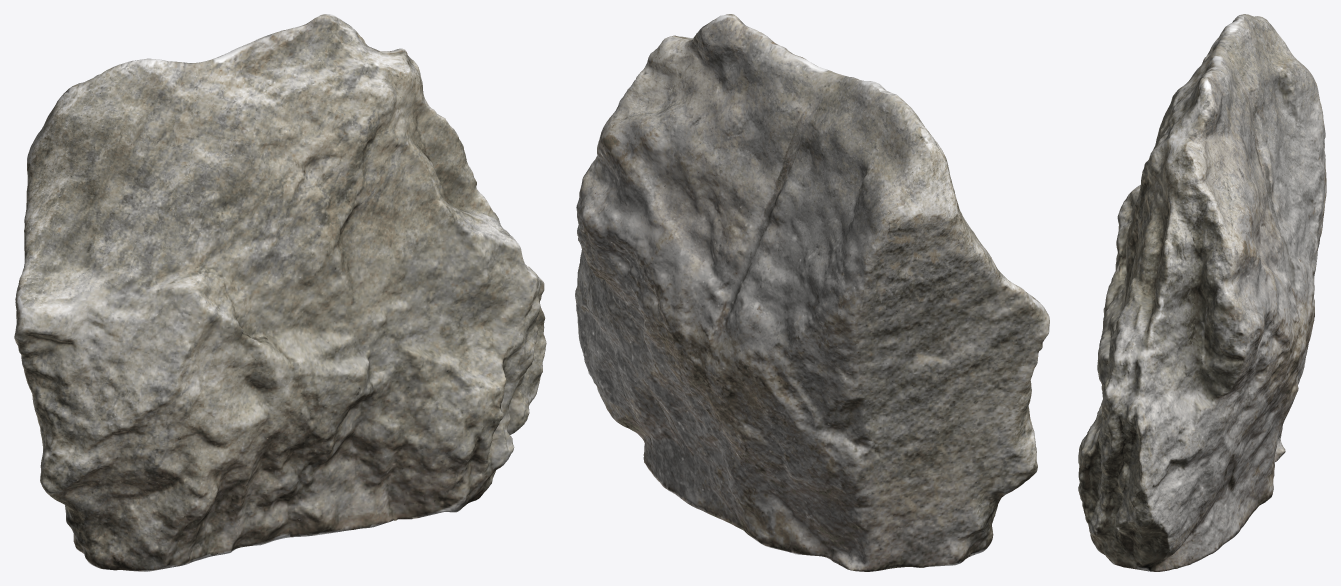
The model's file is sparse3.glb.
3 views of the same model, side by side, from view 1: azimuth 30°, elevation 25°; view 2: azimuth 150°, elevation 25°; view 3: azimuth 270°, elevation 25° (orthographic). The views are drawn at different scales.
Bounding box in the file's own units: 3.96 × 3.67 × 1.84.
1 material, 1 textured.
